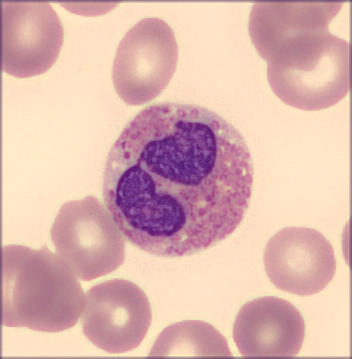EO: (104, 103, 256, 258)
RBC: (265, 31, 352, 116), (47, 196, 125, 280), (246, 1, 333, 74), (14, 246, 86, 333), (109, 16, 179, 103), (78, 278, 153, 355), (264, 224, 336, 299), (230, 293, 306, 359), (1, 1, 65, 78), (1, 241, 52, 329), (151, 320, 233, 359)
